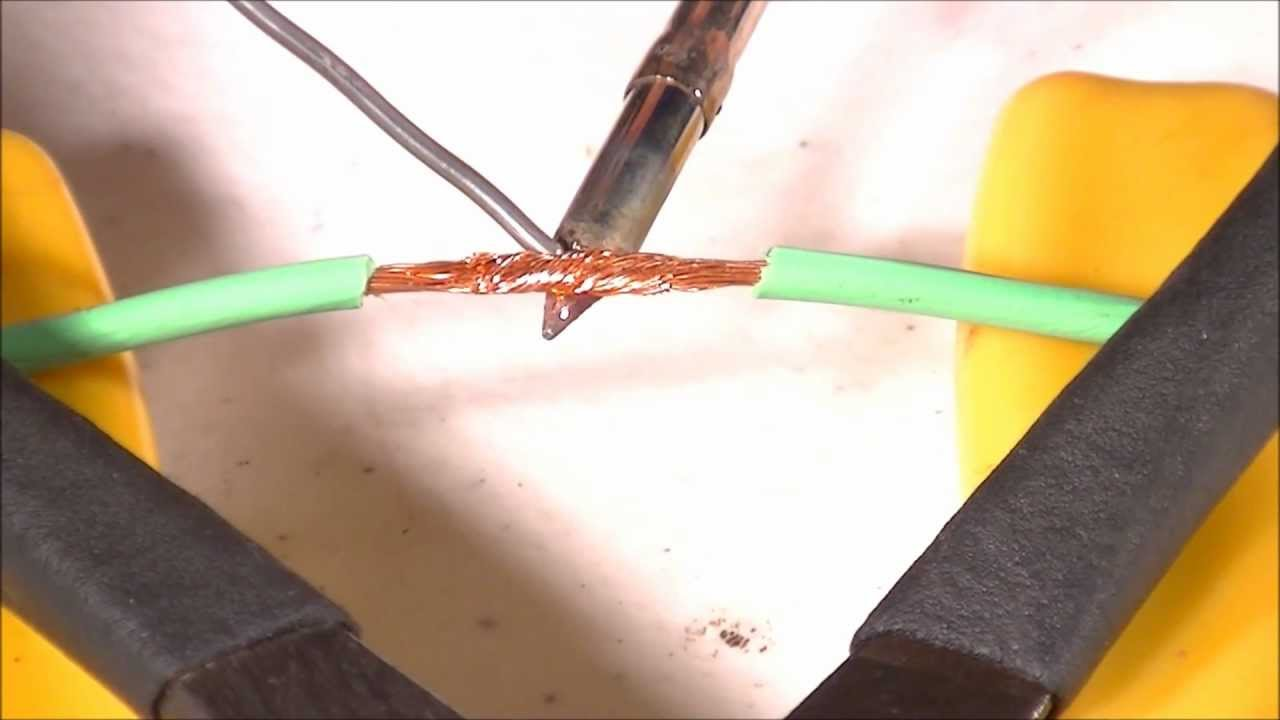Nonrec_Tangler: (21, 215, 1158, 332)
